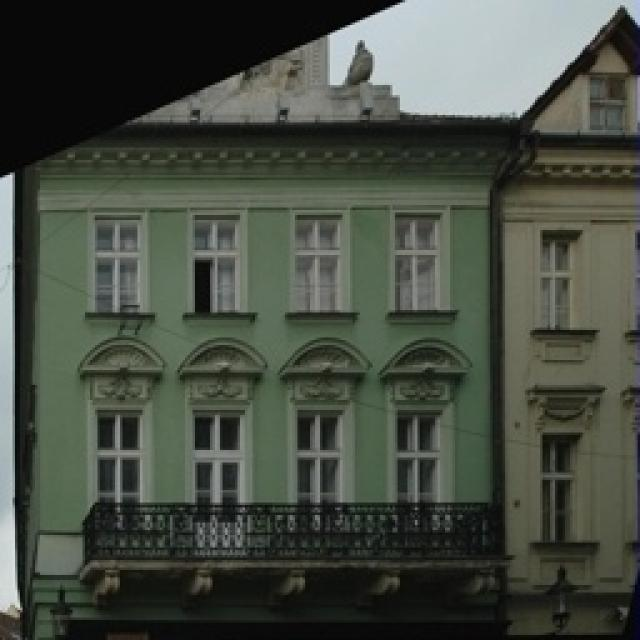building: (17, 27, 520, 640)
